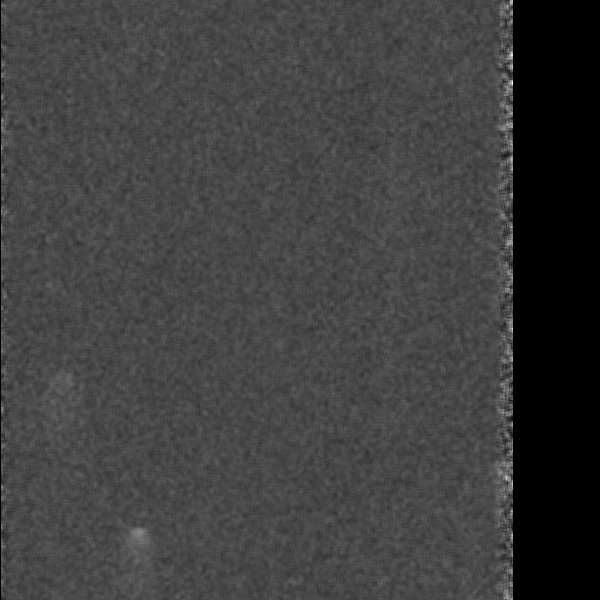spark: (123, 523, 149, 564)
